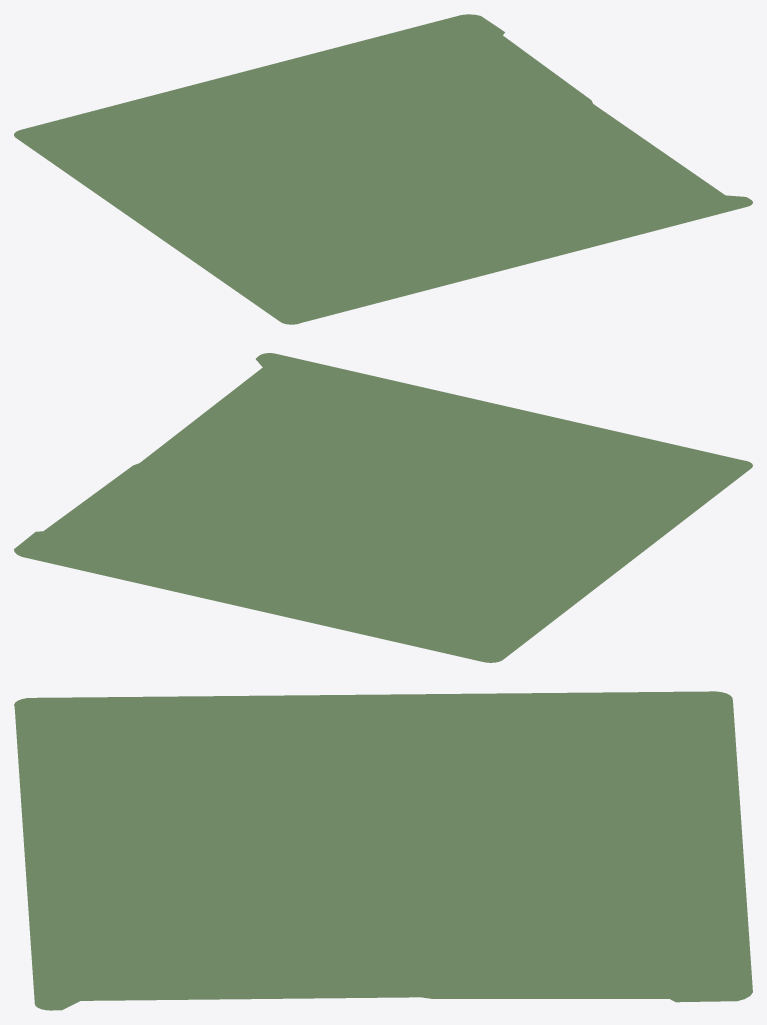
File: c_1639_17822_parks.glb
The picture shows the model from 3 angles, top to bottom: view 1: azimuth 30°, elevation 25°; view 2: azimuth 150°, elevation 25°; view 3: azimuth 270°, elevation 25°; orthographic projection. The views are drawn at different scales.
Parts seen in each view (by area): view 1: geometry_0; view 2: geometry_0; view 3: geometry_0.
Part boxes in pixels (x1,y1,x2,y2): geometry_0: [14, 14, 752, 324]; geometry_0: [14, 353, 752, 662]; geometry_0: [14, 691, 752, 1010].
Bounding box in the file's own units: 226 × 0 × 221.
